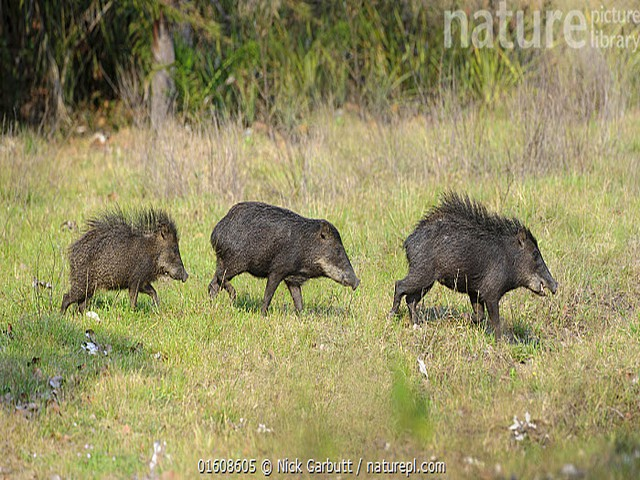Pig: (389, 193, 562, 327), (208, 202, 360, 315), (52, 205, 192, 305)
